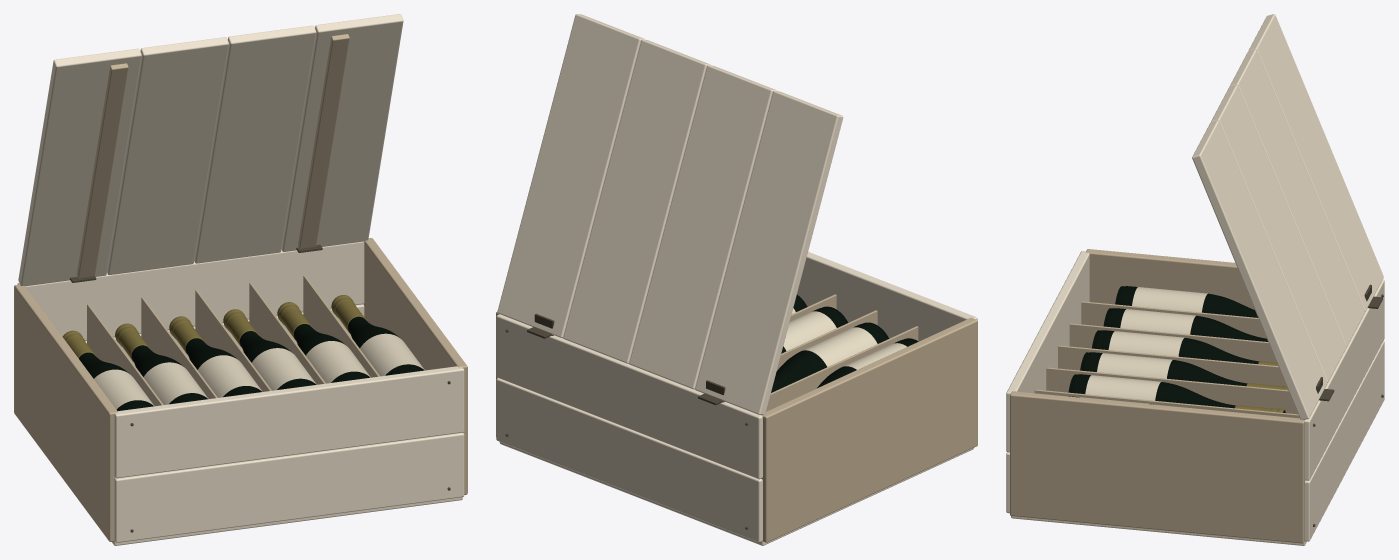
The model's file is wood-case-open.glb.
3 renders of one model, left to right at view 1: azimuth 30°, elevation 25°; view 2: azimuth 150°, elevation 25°; view 3: azimuth 270°, elevation 25°, orthographic. The views are drawn at different scales.
Visible parts, largest first — view 1: Twelve-bottle hinged oak case, Warm uncoated paper, full wrap (×6), Dark green glass (×6), Rolled metallic capsule with curved lip (×5); view 2: Twelve-bottle hinged oak case, Warm uncoated paper, full wrap (×2), Dark green glass; view 3: Twelve-bottle hinged oak case, Warm uncoated paper, full wrap (×5), Dark green glass (×5).
Boxes of the visible parts, x1,y1,x2,y2 form: Twelve-bottle hinged oak case: (14,14,467,545); Warm uncoated paper, full wrap (×6): (94,333,424,409); Dark green glass (×6): (79,316,424,410); Rolled metallic capsule with curved lip (×5): (115,295,366,361); Twelve-bottle hinged oak case: (496,14,977,545); Warm uncoated paper, full wrap (×2): (783,311,877,366); Dark green glass: (771,323,887,392); Twelve-bottle hinged oak case: (1006,14,1384,545); Warm uncoated paper, full wrap (×5): (1085,287,1207,400); Dark green glass (×5): (1070,286,1285,412).
Bounding box in the file's own units: 3.12 × 3.19 × 2.87.
